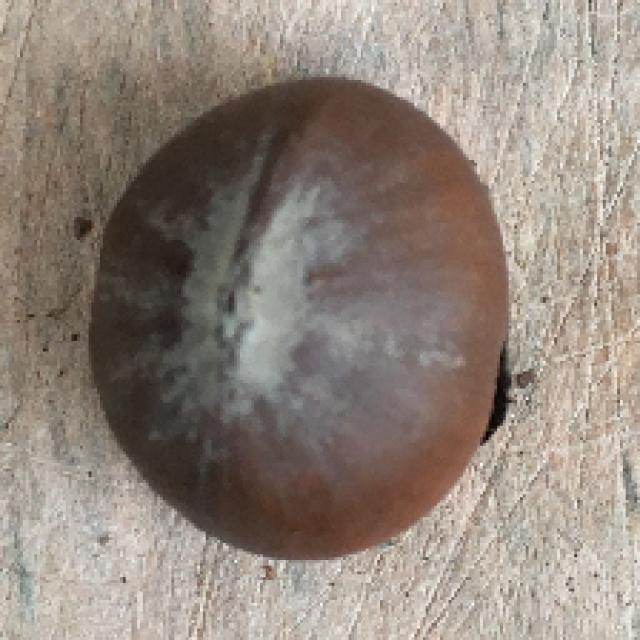damagedHazelnut: (83, 72, 522, 554)
